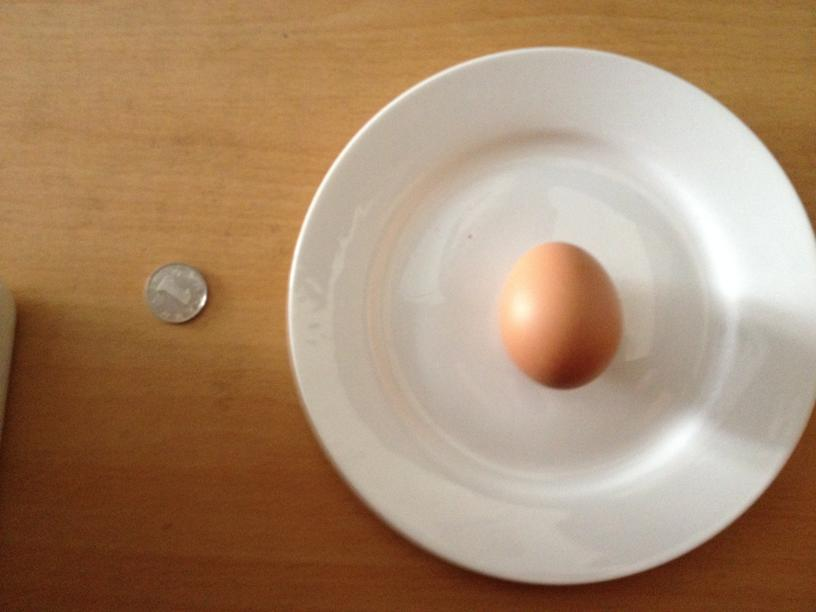coin: (147, 262, 207, 323)
egg: (498, 240, 622, 388)
